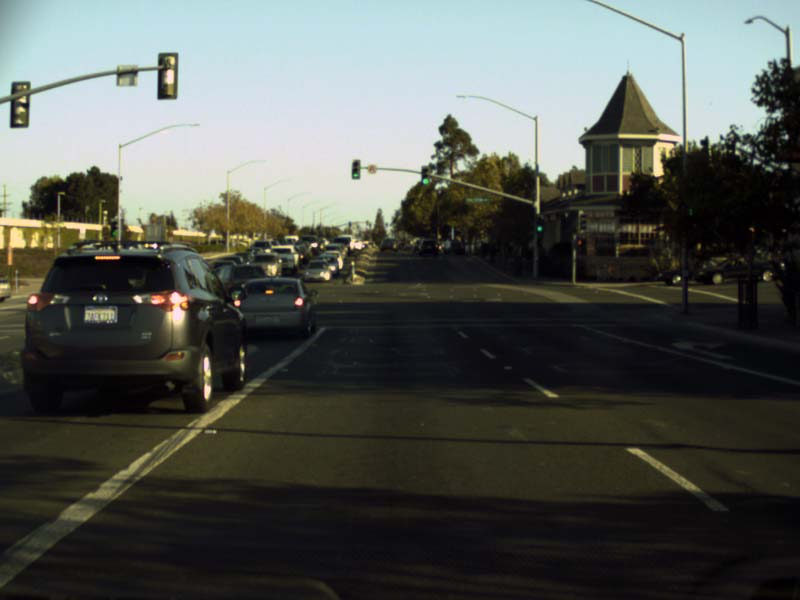Green: (351, 159, 360, 178), (421, 166, 429, 184), (536, 216, 543, 232), (111, 222, 117, 237)
Red: (577, 239, 582, 245)
